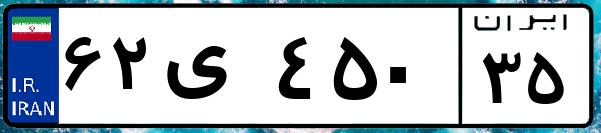0: (385, 28, 445, 110)
2: (110, 28, 158, 98)
3: (475, 38, 525, 113)
4: (270, 28, 330, 110)
5: (330, 28, 385, 110), (525, 38, 570, 115)
6: (57, 26, 110, 100)
ی: (158, 20, 270, 120)
